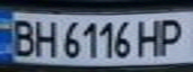1: (78, 19, 100, 58), (97, 19, 118, 58)
6: (112, 18, 139, 58), (57, 18, 81, 60)
B: (6, 16, 39, 57)
H: (133, 16, 166, 57), (30, 17, 60, 59)
P: (154, 15, 190, 56)
